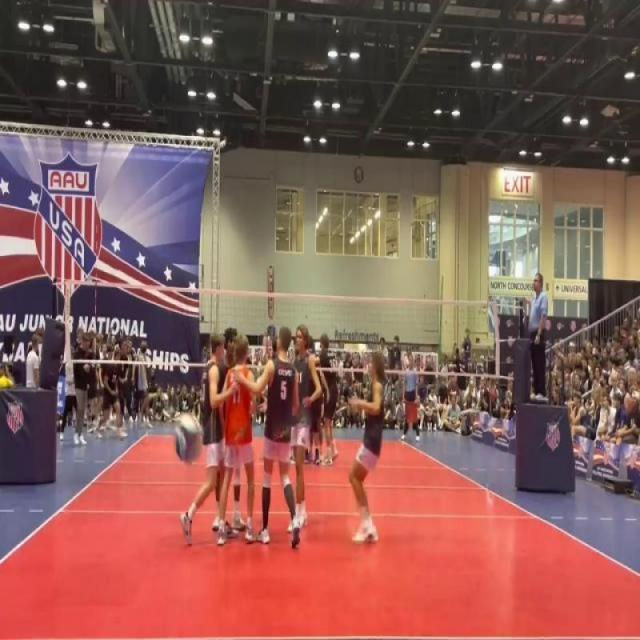volleyball: (173, 408, 204, 466)
